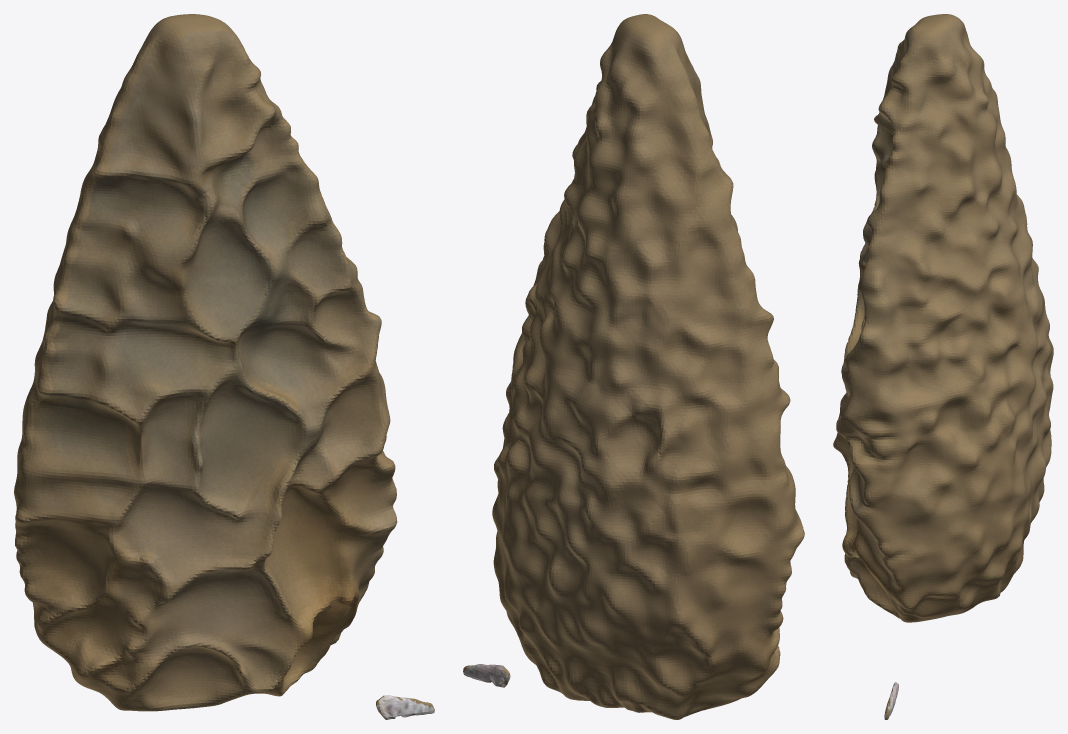
The model's file is tmpa_gsrmoo.glb.
The picture shows the model from 3 angles, left to right: view 1: azimuth 30°, elevation 25°; view 2: azimuth 150°, elevation 25°; view 3: azimuth 270°, elevation 25°; orthographic projection. The views are drawn at different scales.
Visible parts, largest first — view 1: geometry_0; view 2: geometry_0; view 3: geometry_0.
Part boxes in pixels (left/top/right/bottom): geometry_0: left=14, top=14, right=434, bottom=719; geometry_0: left=463, top=14, right=804, bottom=719; geometry_0: left=833, top=14, right=1053, bottom=719.
Bounding box in the file's own units: 1.08 × 1.99 × 0.6483.
Materials: 1 (1 with a texture image).
